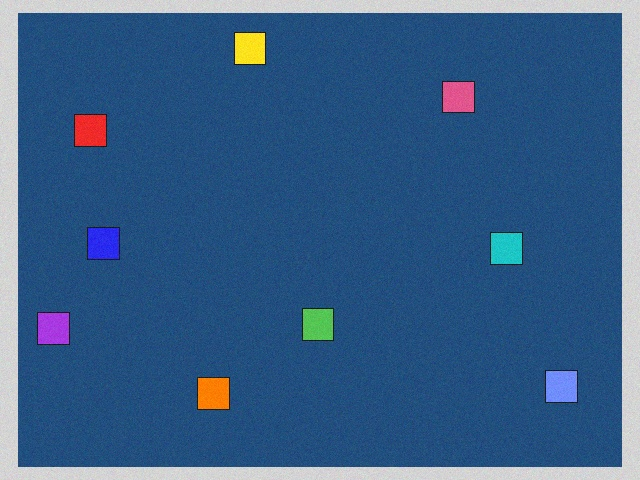block: (533, 363, 577, 402), (38, 308, 83, 344), (75, 114, 118, 151), (436, 81, 474, 120), (197, 370, 234, 409), (234, 33, 269, 74), (87, 227, 130, 259), (481, 233, 522, 265), (302, 305, 334, 340)
